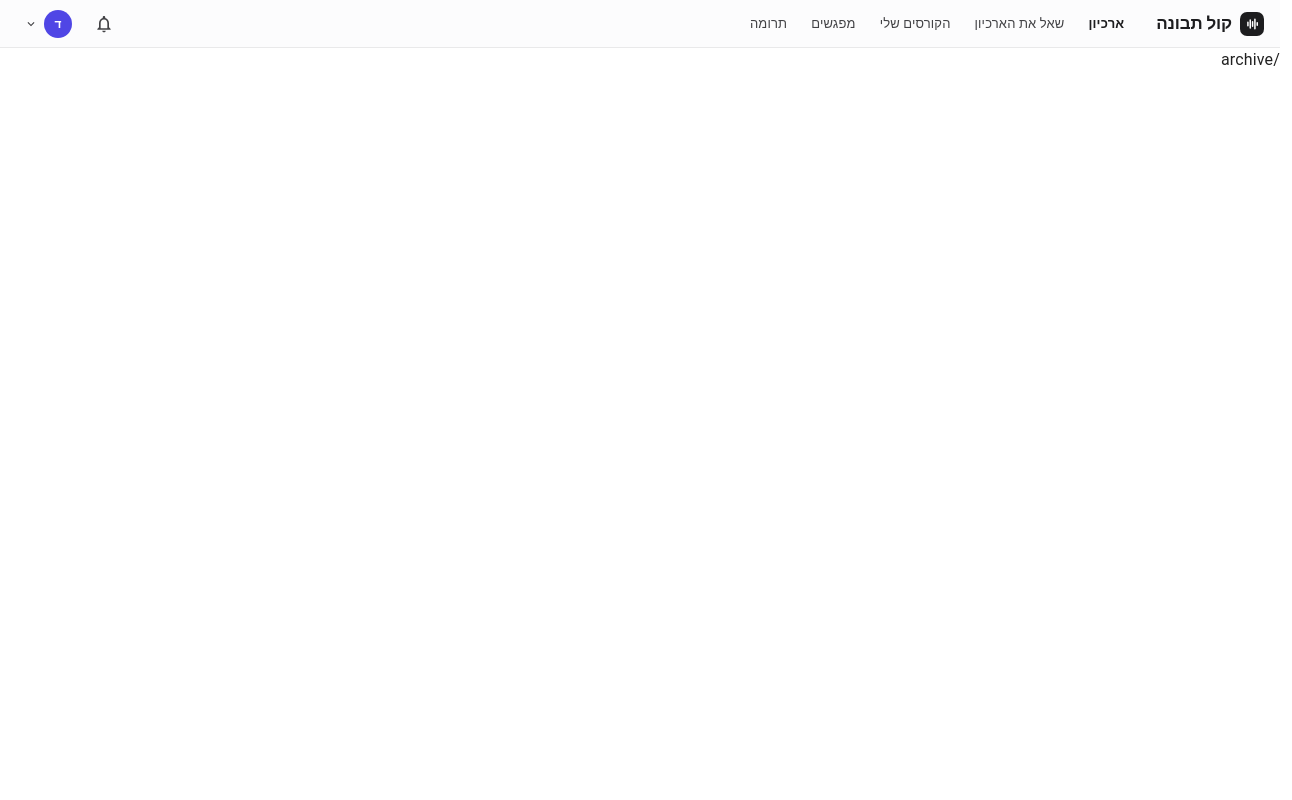
Scenario: תצוגת מנהל › is on by default, and turning it off hides the management group only
This screenshot has width=1292, height=800.
What coordinates should you click on to do the following:
click the button named "תפריט החשבון"
I would click on:
 (46, 24)
Its box is [16, 6, 76, 42].
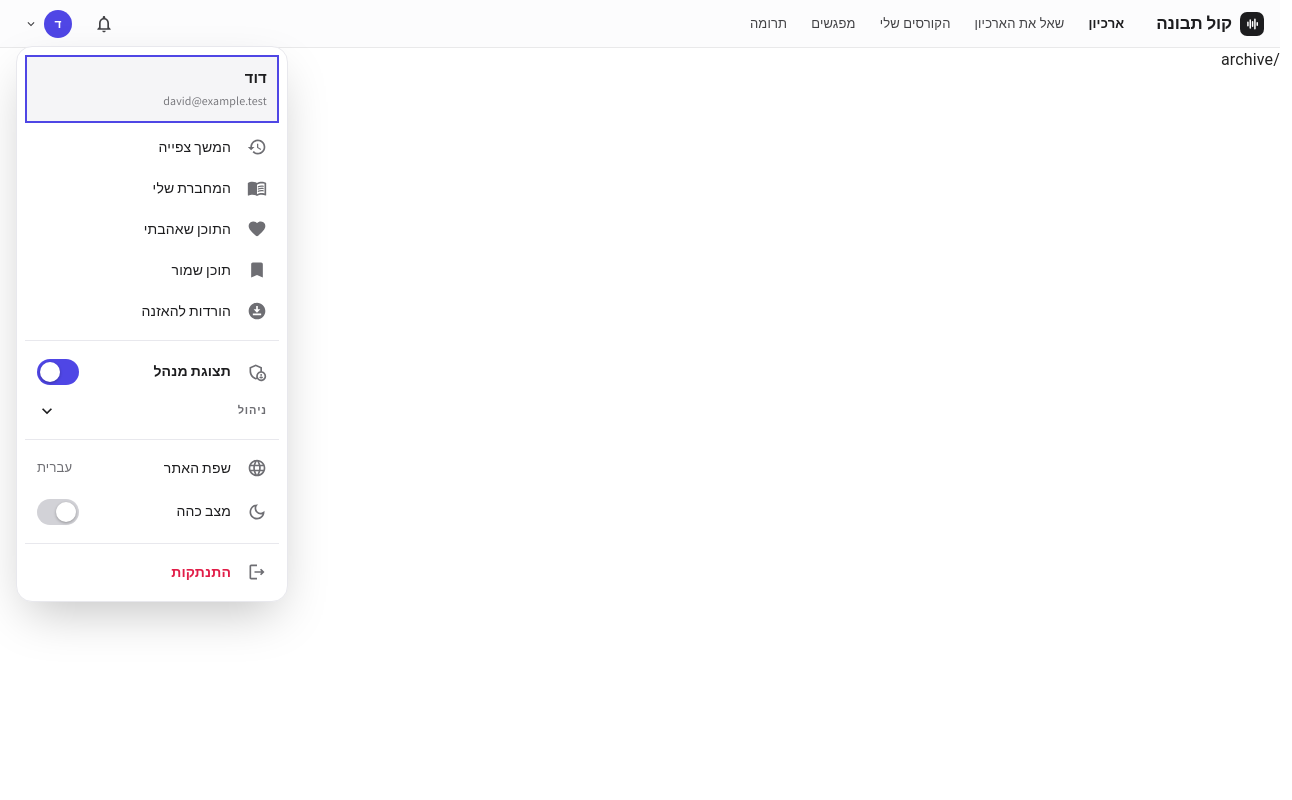
What coordinates should you click on to do the following:
click the menu item "ניהול"
I would click on:
 (252, 410)
Its box is [37, 400, 267, 420].
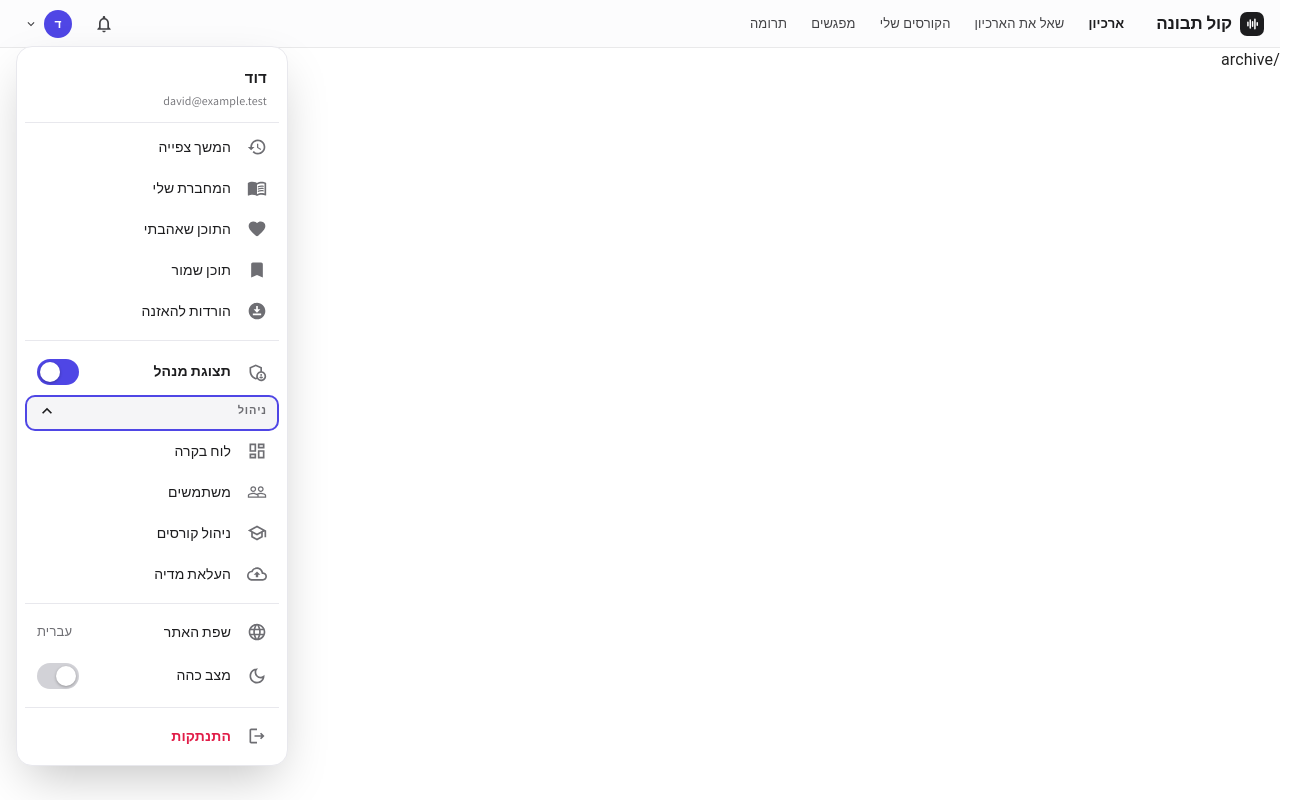
What coordinates should you click on to do the following:
click the switch labelled "תצוגת מנהל"
I would click on:
 (152, 372)
Its box is [37, 358, 267, 384].
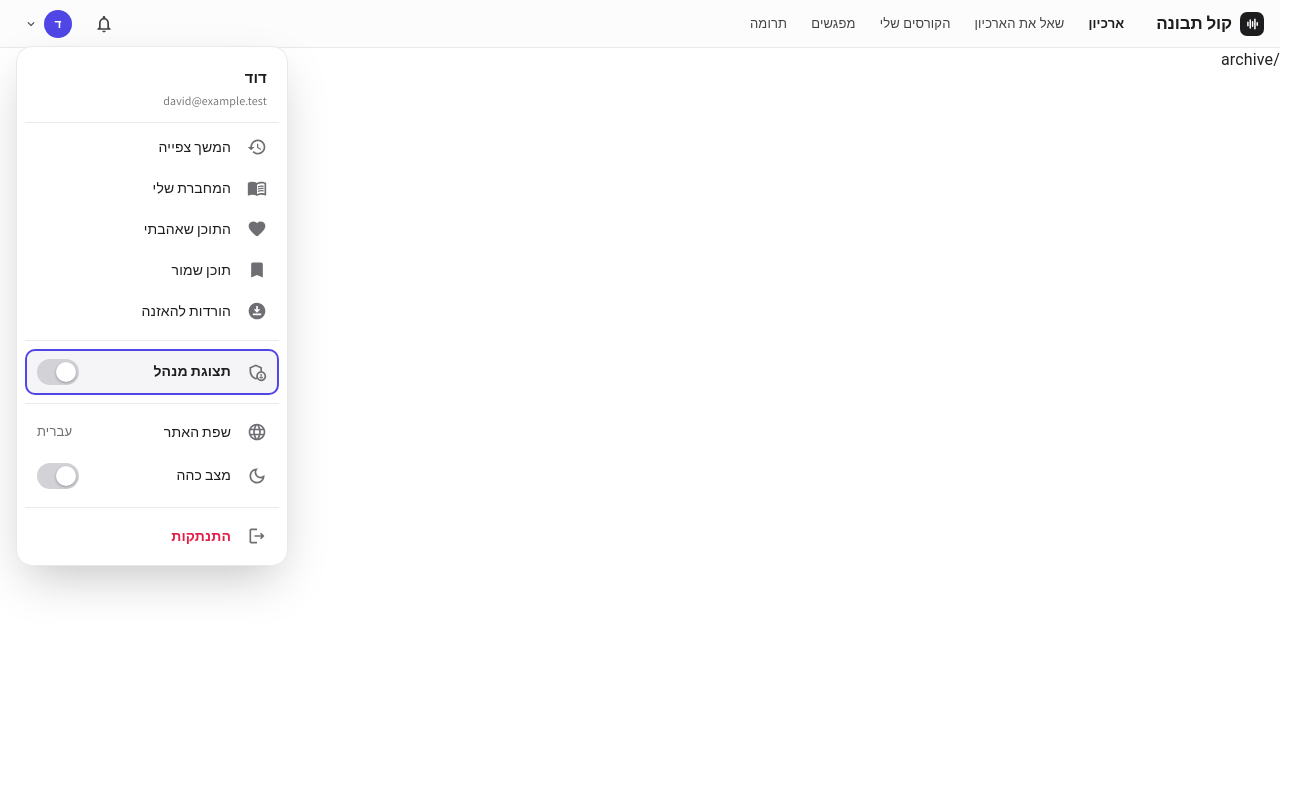
expect the menu item "העלאת מדיה" is gone: met
